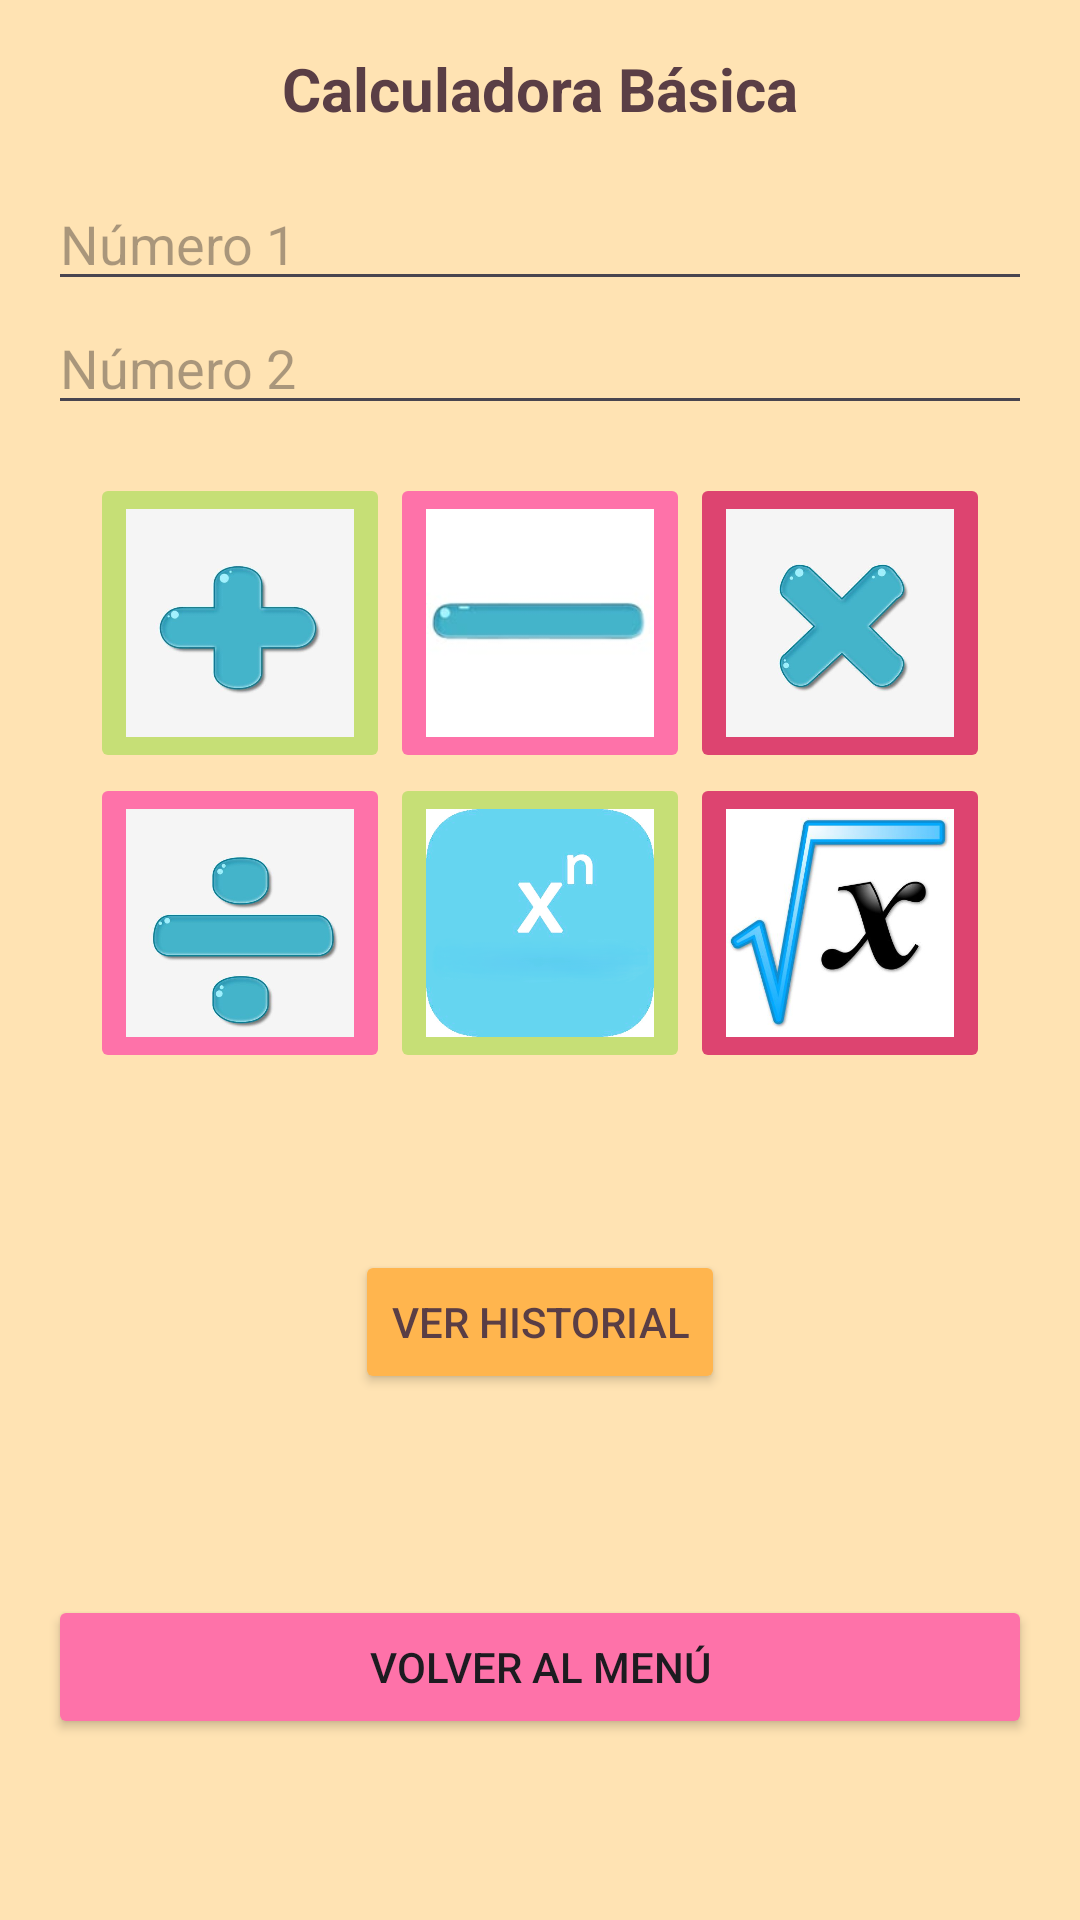

Icon bounding boxes for this 1080x1920 phone screenshot, format (x1, y1, x2, y2):
division: (102, 791, 378, 1055)
exponente: (402, 791, 678, 1055)
multiplicacion: (702, 491, 978, 755)
raiz: (702, 791, 978, 1055)
resta: (402, 491, 678, 755)
suma: (102, 491, 378, 755)
